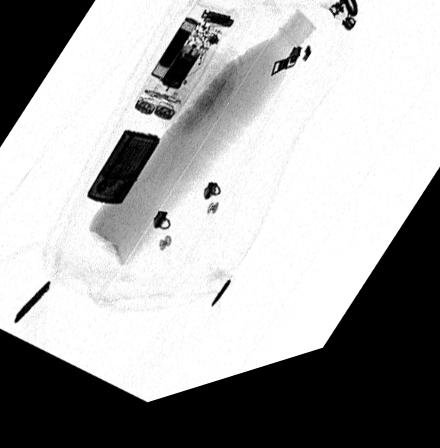Lighter: (85, 135, 162, 212)
